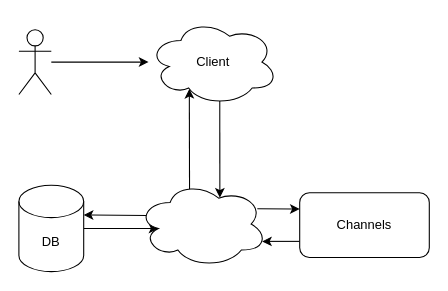
Image size: 448x291. Some labels were removed from this diagram. Here are the shapes that lost their labels. From the top down, the centre of each, then its label:
(34,61): User
(202,223): Server
